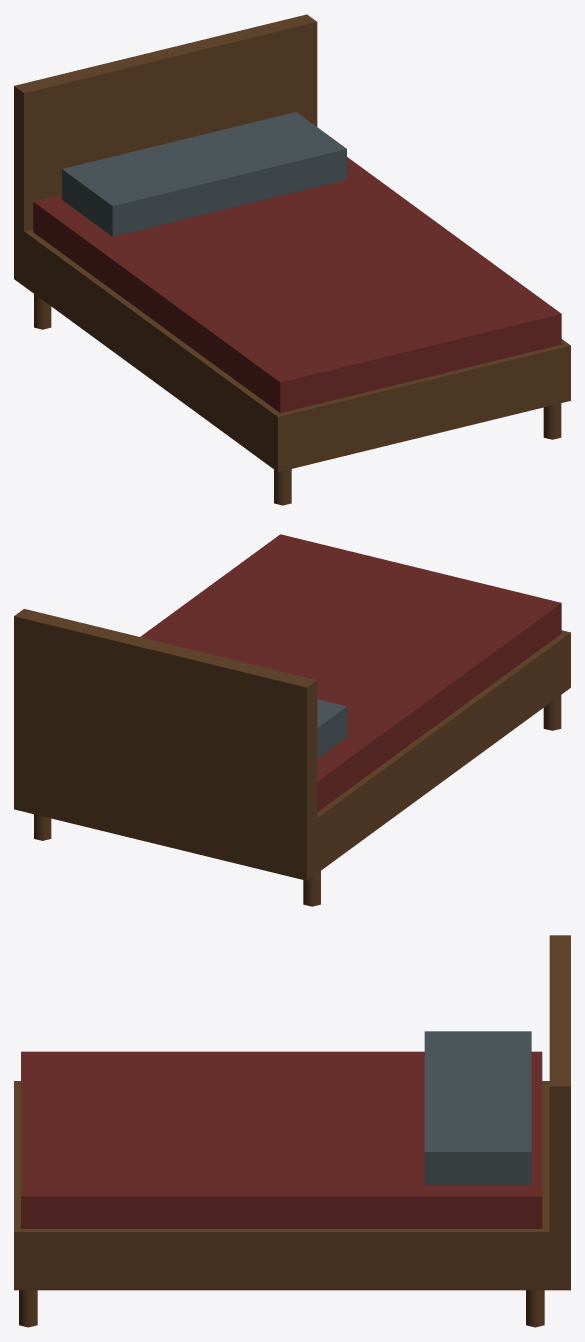
File: living_bed.glb
3 renders of one model, top to bottom at view 1: azimuth 30°, elevation 25°; view 2: azimuth 150°, elevation 25°; view 3: azimuth 270°, elevation 25°, orthographic. The views are drawn at different scales.
Parts seen in each view (by area): view 1: sw5e_int_living_bed; view 2: sw5e_int_living_bed; view 3: sw5e_int_living_bed.
Boxes of the visible parts, bbox=[...] form: sw5e_int_living_bed: bbox=[14, 14, 570, 505]; sw5e_int_living_bed: bbox=[14, 534, 570, 906]; sw5e_int_living_bed: bbox=[14, 935, 570, 1327].
Bounding box in the file's own units: 1 × 0.75 × 1.56.
